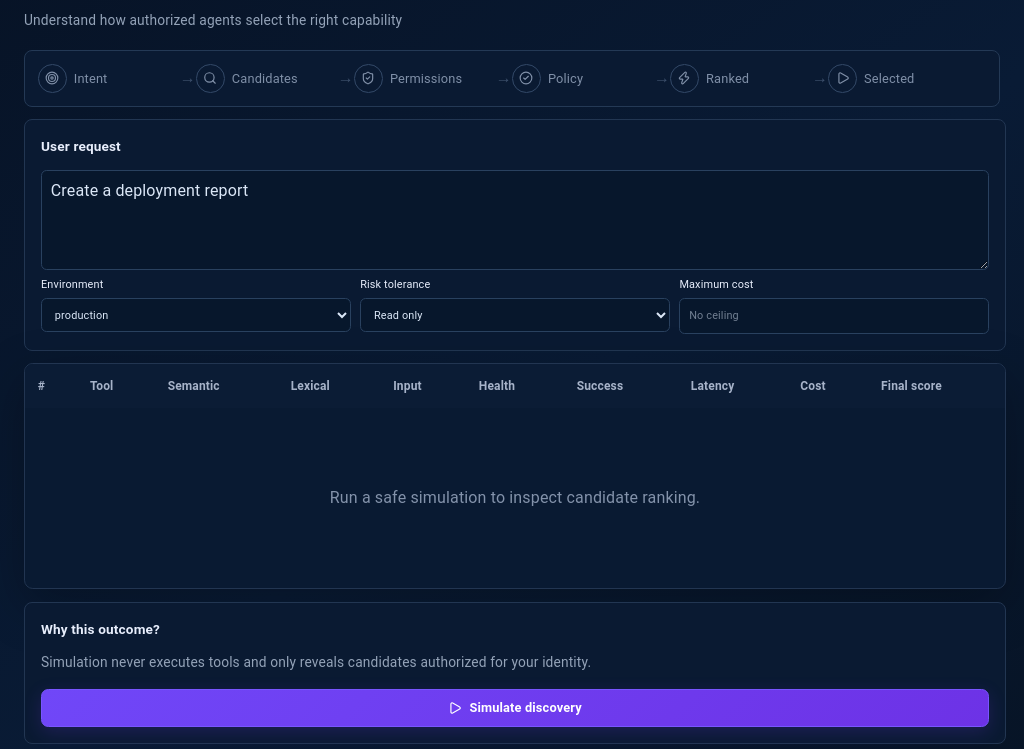
Test: DiscoveryPage › renders ranked real-API simulation results
(page scrolled)
Click the button "Simulate discovery" at (515,708), box [41, 689, 989, 727]
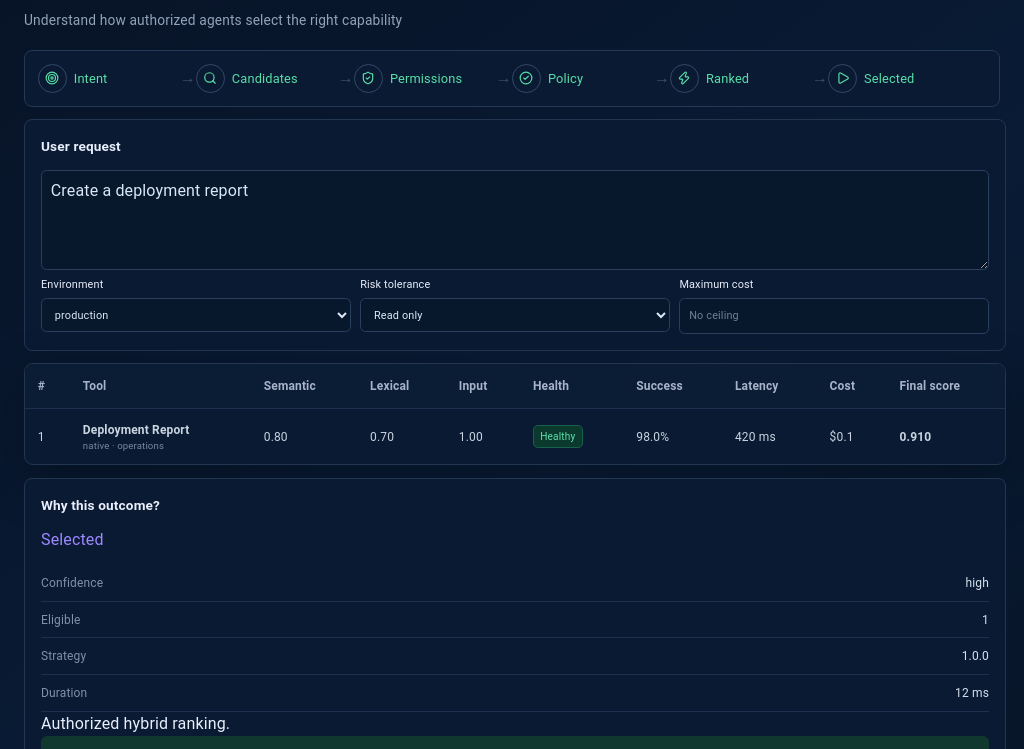
Now the text "Deployment Report" next to "0.80" is shown, box [83, 422, 189, 436]
Now the text "selected" is shown, box [41, 530, 104, 549]
